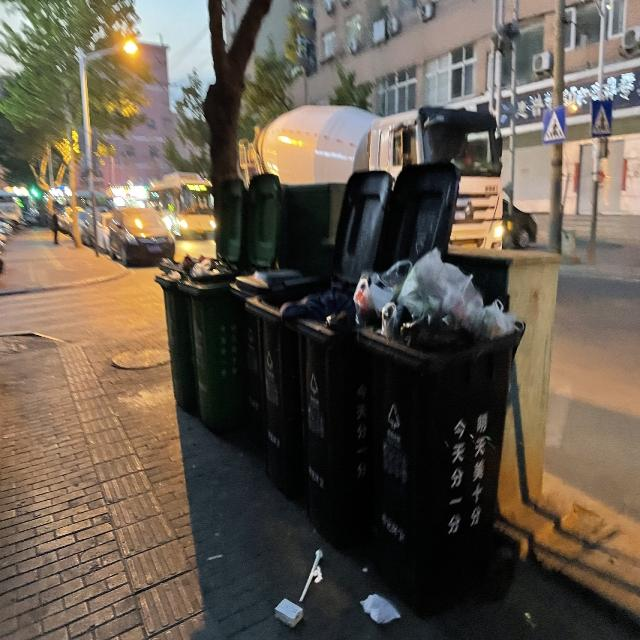garbage: (273, 548, 401, 625)
garbage_bin: (227, 266, 319, 457)
overflow: (354, 244, 523, 616), (278, 276, 366, 550), (244, 276, 327, 497), (175, 251, 244, 435), (155, 252, 198, 415)
